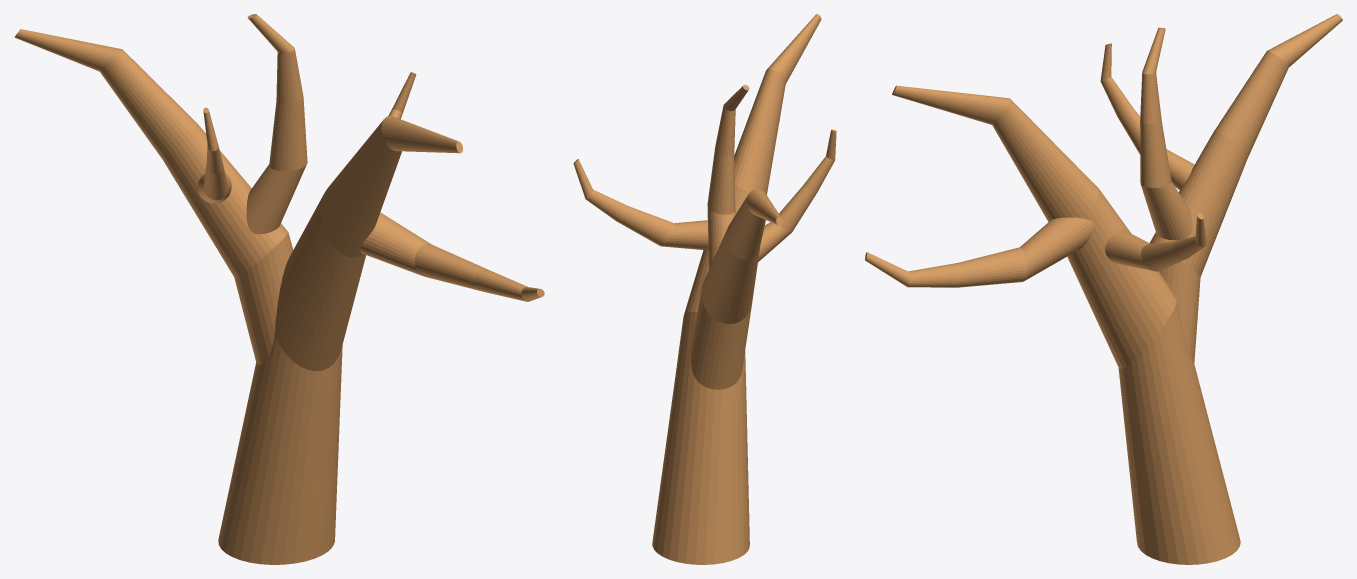
File: Arbre_désert.fbx
The picture shows the model from 3 angles, left to right: view 1: azimuth 30°, elevation 25°; view 2: azimuth 150°, elevation 25°; view 3: azimuth 270°, elevation 25°; orthographic projection. The views are drawn at different scales.
Parts seen in each view (by area): view 1: Cylinder; view 2: Cylinder; view 3: Cylinder.
Boxes of the visible parts, x1,y1,x2,y2 form: Cylinder: (14,14,544,564); Cylinder: (573,14,836,564); Cylinder: (865,14,1342,564).
Bounding box in the file's own units: 502 × 807 × 701.
